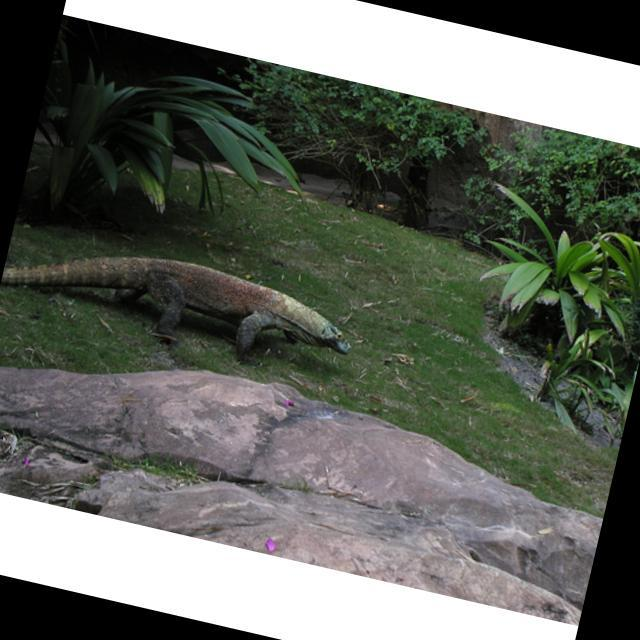KomodoDragon: (0, 219, 363, 382)
